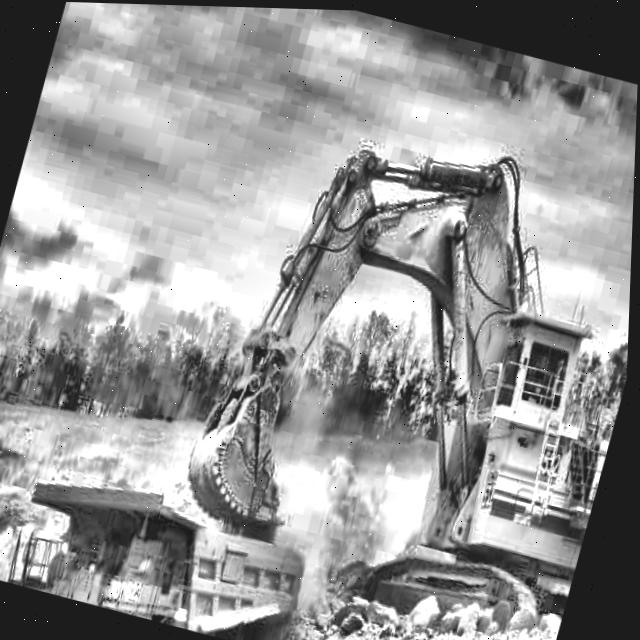dump_truck: (0, 426, 342, 640)
excavator: (165, 74, 638, 640)
